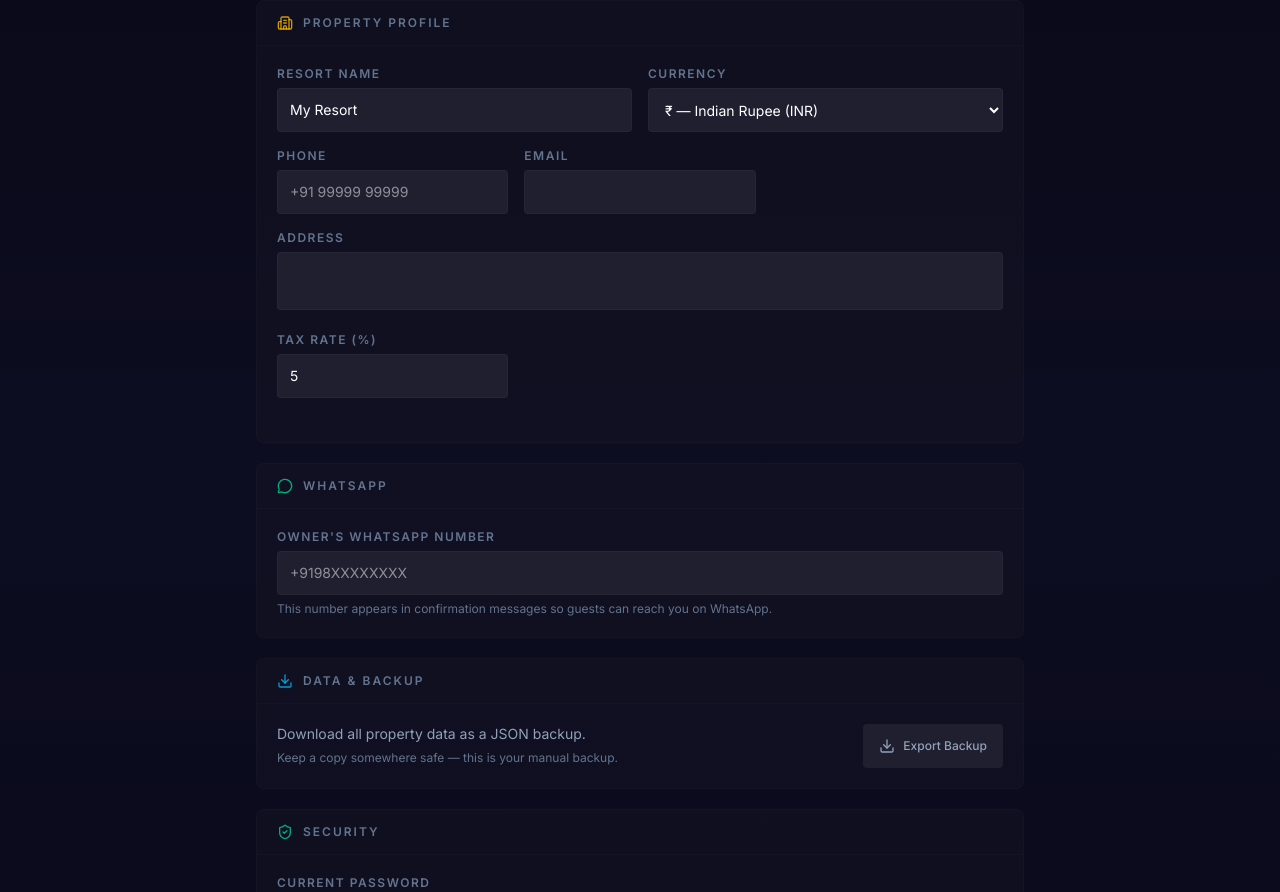
Test: Settings › saves the resort and shows confirmation
The image size is (1280, 892).
Replace the text in the field showing "My Resort" below "Resort Name" with "Shoreline" at (454, 110), box [277,88,632,132]
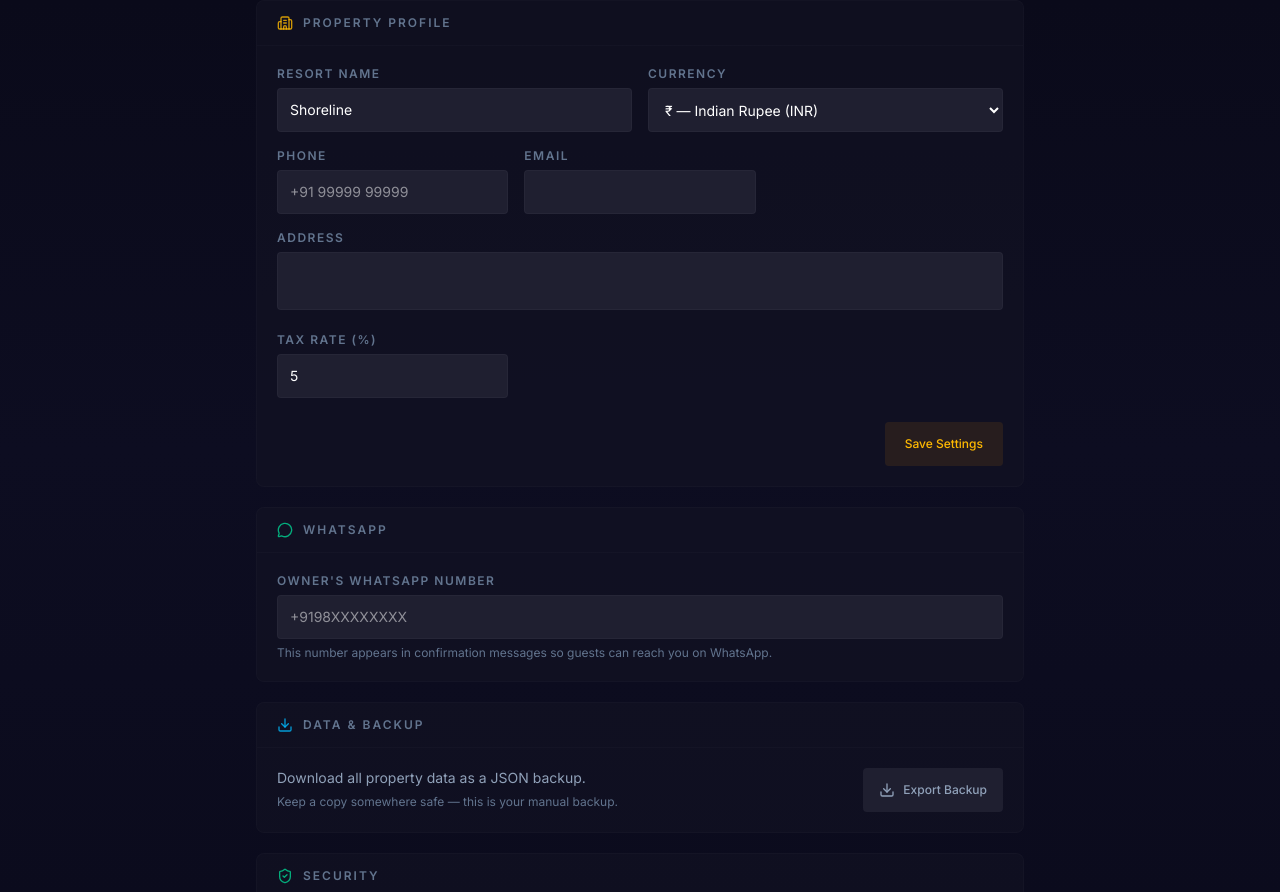
Click the button "Save Settings" at (944, 444), box [885,422,1003,466]
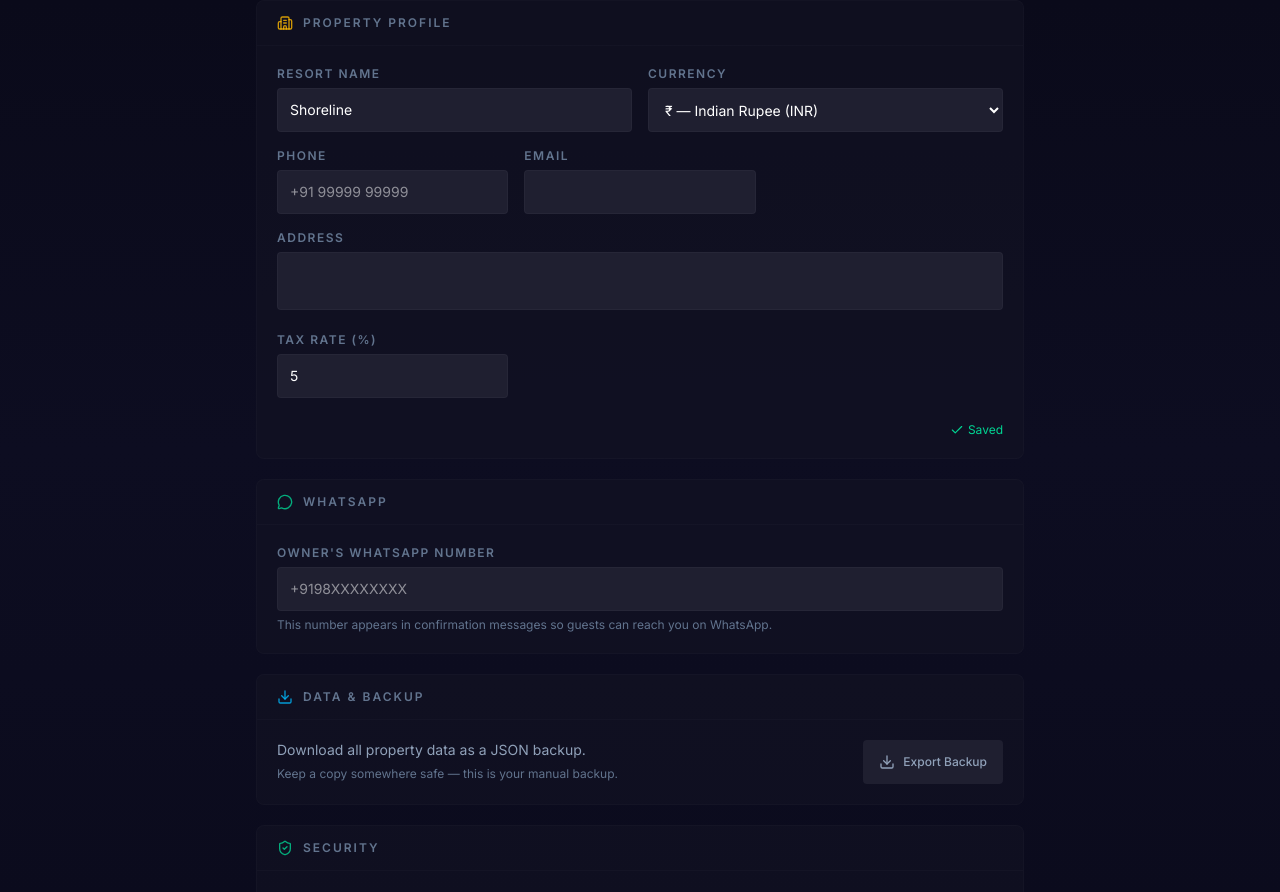
Now the text "Saved" is shown, box [950,422,1003,438]
